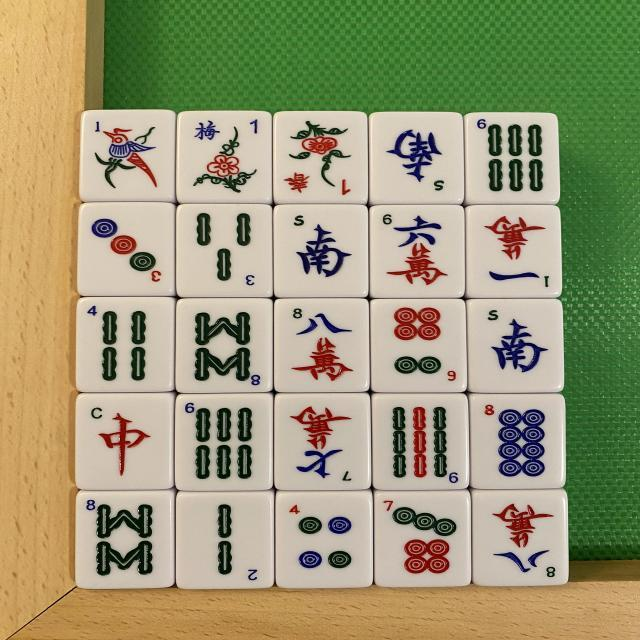bf1: (182, 112, 276, 200)
bs1: (282, 115, 364, 201)
hdr: (78, 394, 173, 489)
hws: (468, 298, 562, 396), (272, 202, 366, 298), (379, 116, 459, 197)
sb1: (82, 114, 174, 204)
sb2: (175, 494, 272, 594)
sb3: (181, 206, 275, 300)
sb4: (79, 296, 175, 394)
sb6: (172, 394, 267, 491), (470, 114, 561, 202)
sb8: (76, 491, 176, 591), (176, 299, 271, 394)
sb9: (374, 393, 468, 491)
sc1: (466, 202, 558, 297)
sc6: (370, 202, 464, 298)
sc7: (274, 394, 368, 492)
sc8: (478, 494, 570, 592), (278, 300, 370, 394)
sd3: (80, 204, 174, 298)
sd4: (272, 494, 368, 593)
sd6: (374, 300, 466, 395)
sd7: (374, 494, 470, 592)
sd8: (471, 392, 561, 490)
